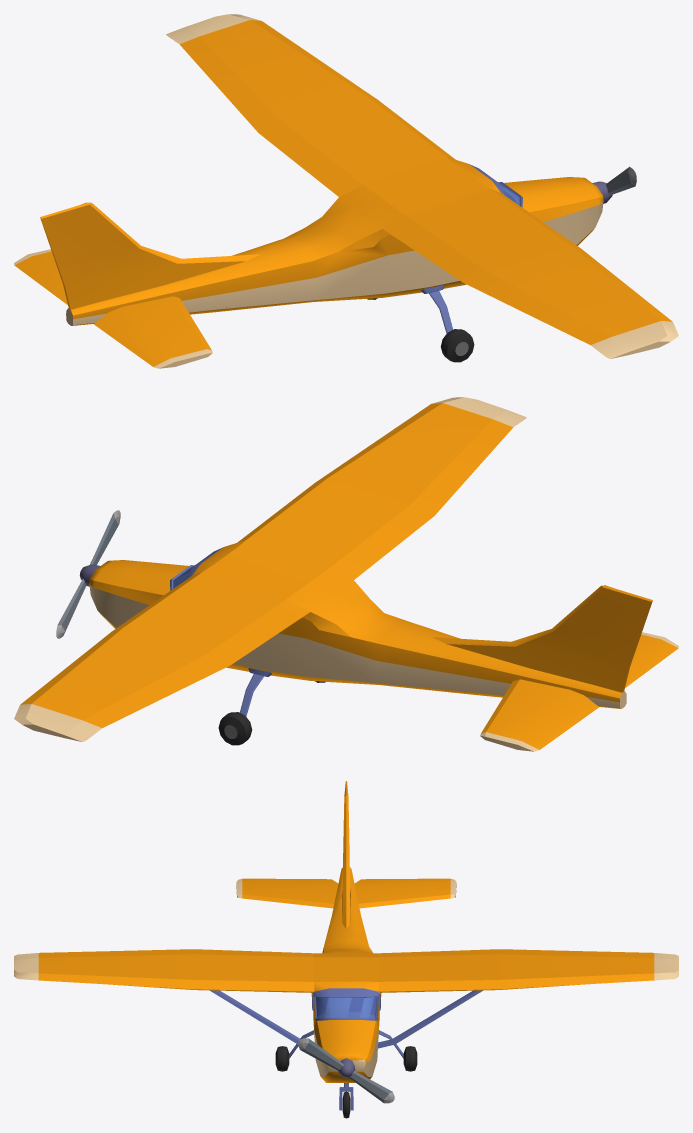
3 views of the same model, one above another, from view 1: azimuth 30°, elevation 25°; view 2: azimuth 150°, elevation 25°; view 3: azimuth 270°, elevation 25° (orthographic). The views are drawn at different scales.
Parts seen in each view (by area): view 1: Plane_2_B, Propeler; view 2: Plane_2_B, Propeler; view 3: Plane_2_B, Propeler.
Boxes of the visible parts, <box> form: Plane_2_B: <box>14,14,678,368</box>; Propeler: <box>606,166,636,195</box>; Plane_2_B: <box>14,397,678,751</box>; Propeler: <box>56,510,120,638</box>; Plane_2_B: <box>14,781,678,1118</box>; Propeler: <box>298,1038,394,1103</box>.
Size of the model in its own units: 1241 by 429 by 1666.
